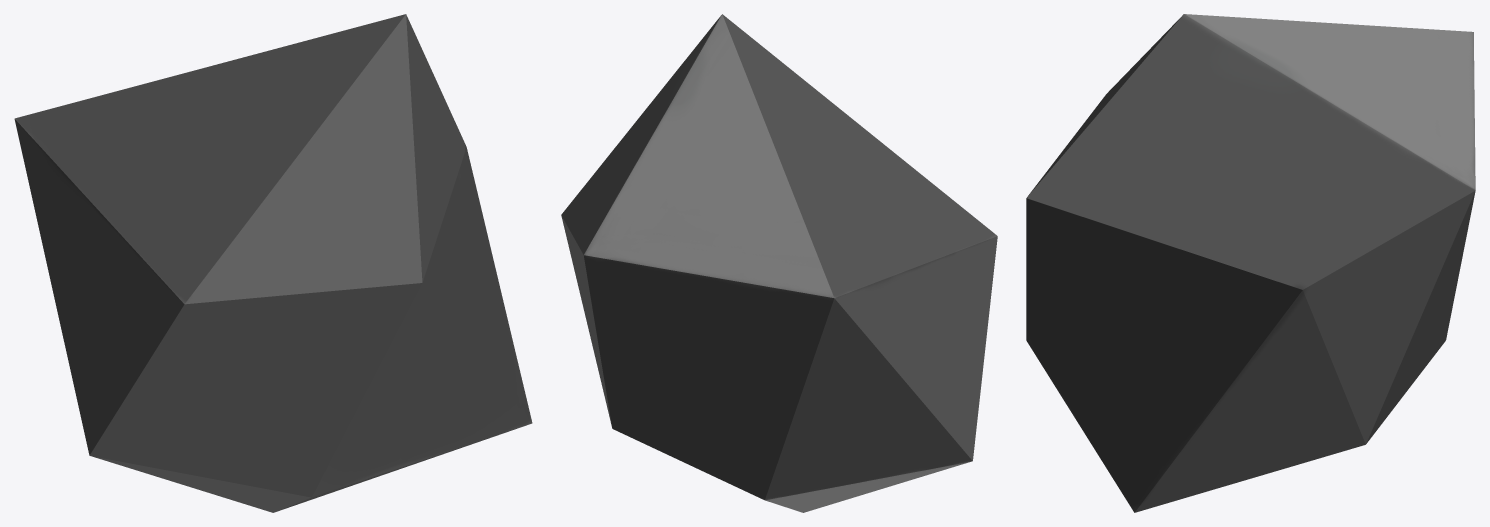
Rendered from rock.fbx.
The picture shows the model from 3 angles, left to right: view 1: azimuth 30°, elevation 25°; view 2: azimuth 150°, elevation 25°; view 3: azimuth 270°, elevation 25°; orthographic projection. The views are drawn at different scales.
Visible parts, largest first — view 1: Icosphere; view 2: Icosphere; view 3: Icosphere.
Part boxes in pixels (x1,y1,x2,y2): Icosphere: [14, 14, 532, 512]; Icosphere: [561, 14, 997, 512]; Icosphere: [1026, 14, 1475, 512].
Bounding box in the file's own units: 204 × 233 × 182.
1 material, 1 textured.
